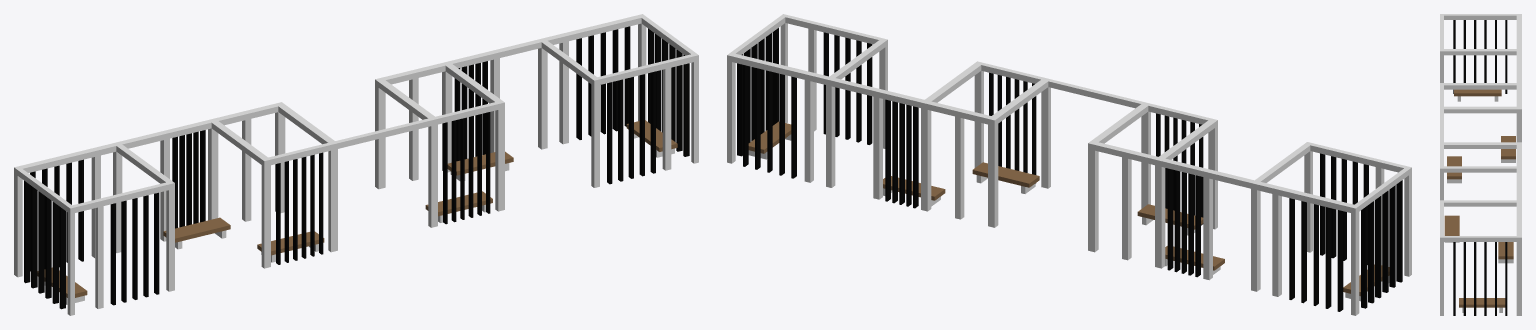
The model's file is 小亭子.fbx.
3 views of the same model, side by side, from view 1: azimuth 30°, elevation 25°; view 2: azimuth 150°, elevation 25°; view 3: azimuth 270°, elevation 25° (orthographic). The views are drawn at different scales.
Visible parts, largest first — view 1: Cube, Cube.002, Cube.006, Cube.003, Cube.005, Cube.004; view 2: Cube, Cube.005, Cube.004, Cube.003; view 3: Cube, Cube.004, Cube.001, Cube.005, Cube.003, Cube.006, Cube.002.
Part boxes in pixels (bbox=[...]): Cube: bbox=[14, 14, 698, 315]; Cube.002: bbox=[163, 217, 230, 249]; Cube.006: bbox=[447, 151, 513, 180]; Cube.003: bbox=[257, 231, 324, 262]; Cube.005: bbox=[425, 191, 492, 222]; Cube.004: bbox=[626, 120, 677, 157]; Cube: bbox=[727, 14, 1411, 315]; Cube.005: bbox=[972, 162, 1039, 193]; Cube.004: bbox=[748, 121, 791, 159]; Cube.003: bbox=[1137, 204, 1203, 235]; Cube: bbox=[1440, 14, 1521, 315]; Cube.004: bbox=[1459, 298, 1505, 312]; Cube.001: bbox=[1454, 89, 1501, 101]; Cube.005: bbox=[1444, 215, 1459, 242]; Cube.003: bbox=[1447, 156, 1461, 183]; Cube.006: bbox=[1498, 242, 1513, 263]; Cube.002: bbox=[1501, 136, 1515, 162].
Size of the model in its own units: 23.48 by 3.86 by 3.64.
